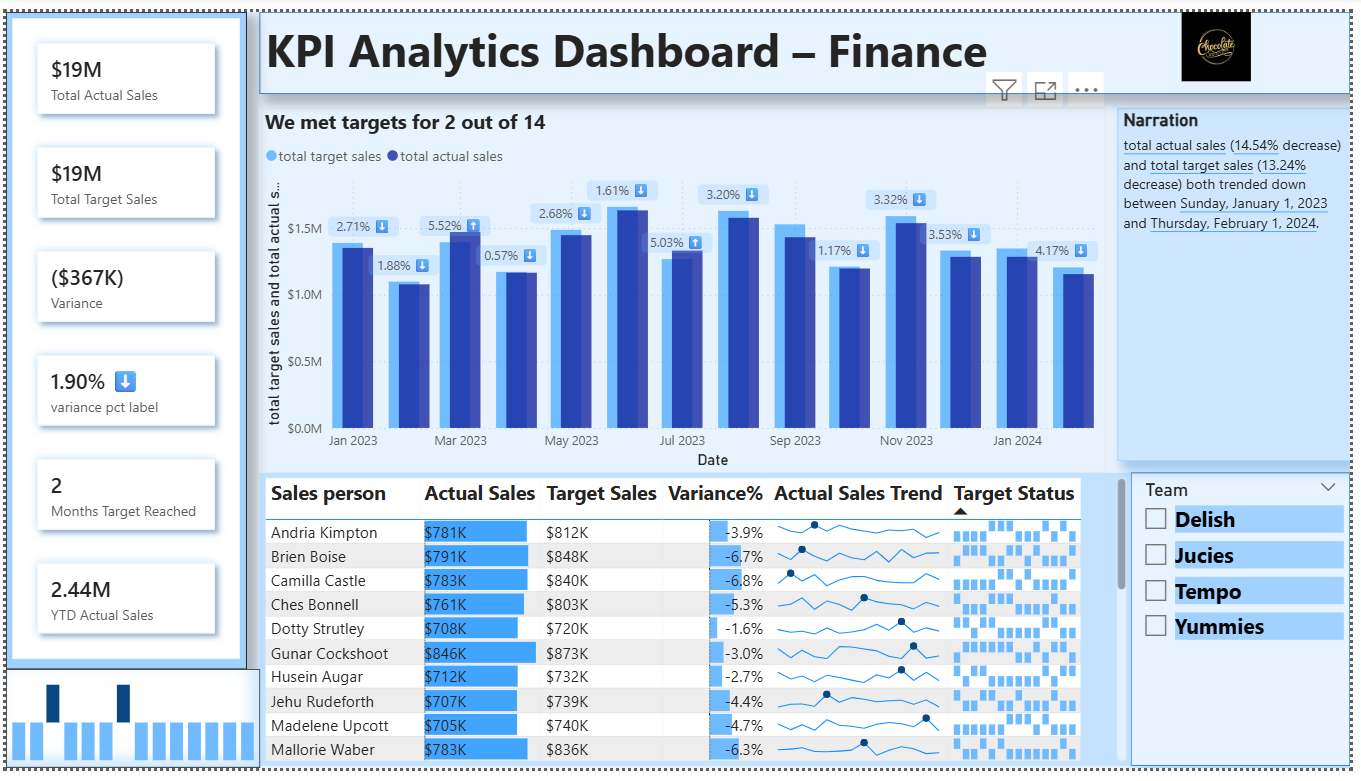

The dashboard page shown, as its layout file describes it:
{"tool":"powerbi","page":{"name":"Page 1","canvas":[1280,720],"ordinal":0},"visuals":[{"type":"cardVisual","fields":{"Data":["Actual.total actual sales","Targets.total target sales","Targets.expected sales met","Actual.variance pct label","Actual.Months Target Reached","Actual.ytd sales actual"]},"box":[0,0,229.2,625.8],"z":0},{"type":"columnChart","fields":{"Y":["Actual.Target Status"],"Category":["Calendar.Date"]},"box":[0,625.4,242.3,93.9],"z":1000},{"type":"clusteredColumnChart","fields":{"Category":["Calendar.Date"],"Y":["Targets.total target sales","Actual.total actual sales"]},"box":[241.6,91.6,805.3,347.4],"z":2000},{"type":"slicer","fields":{"Values":["People.Team"]},"box":[1072.1,439,208.4,279.5],"z":3000},{"type":"tableEx","fields":{"Values":["People.Sales person","Actual.total actual sales","Targets.total target sales","Actual.Variance%","SparklineData(Actual.total actual sales_[Calendar.Date])","SparklineData(Actual.Target Status_[Calendar.Date])"]},"box":[241.6,439,830.5,279.5],"z":4000},{"type":"textbox","title":"Narration","box":[1057.9,91.6,222.6,336.3],"z":4001},{"type":"textbox","box":[241.5,0,1038.9,78.2],"z":4002},{"type":"image","box":[1023.8,0,256.6,65.9],"z":4005}]}

Visuals, with their boxes in screenshot pixels (x1, y1, x2, y2), scaled from the page's 1280x720 canvas onto the 1361x781 screenshot:
cardVisual - Actual.total actual sales x Targets.total target sales: bbox=(0, 0, 244, 679)
columnChart - Actual.Target Status x Calendar.Date: bbox=(0, 678, 258, 780)
clusteredColumnChart - Calendar.Date x Targets.total target sales: bbox=(257, 99, 1113, 476)
slicer - People.Team: bbox=(1140, 476, 1360, 779)
tableEx - People.Sales person x Actual.total actual sales: bbox=(257, 476, 1140, 779)
"Narration" textbox: bbox=(1125, 99, 1360, 464)
textbox: bbox=(257, 0, 1360, 85)
image: bbox=(1089, 0, 1360, 71)
